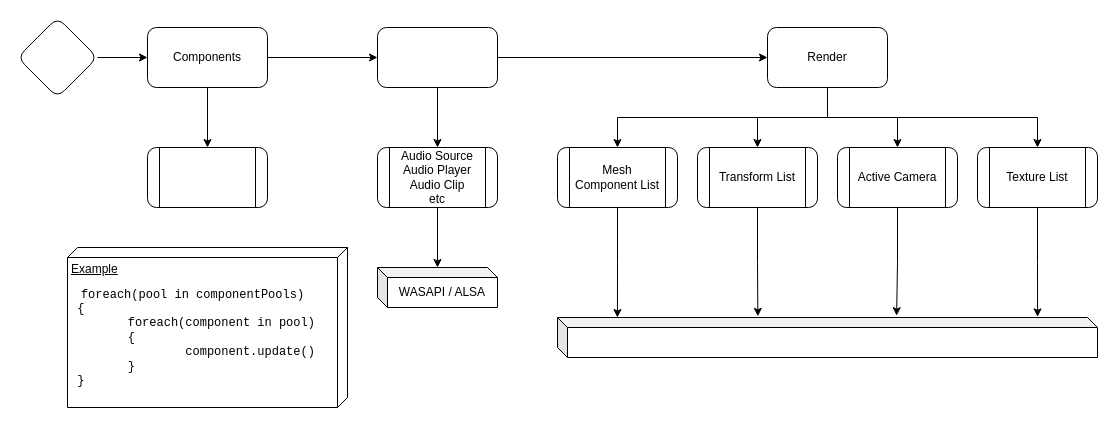
The diagram is 1115 pixels wide and 425 high, and some of its shapes have lost their labels. The shapes that lost their labels are listed below. From the top down, each one's box as (x1, y1, x2, y2) in pixels, then its label:
(16, 16, 98, 98): Frame Start
(376, 26, 498, 88): Audio
(146, 146, 268, 208): SoldierAI PlayerController UIUpdater etc
(556, 316, 1098, 358): Shader Inputs
